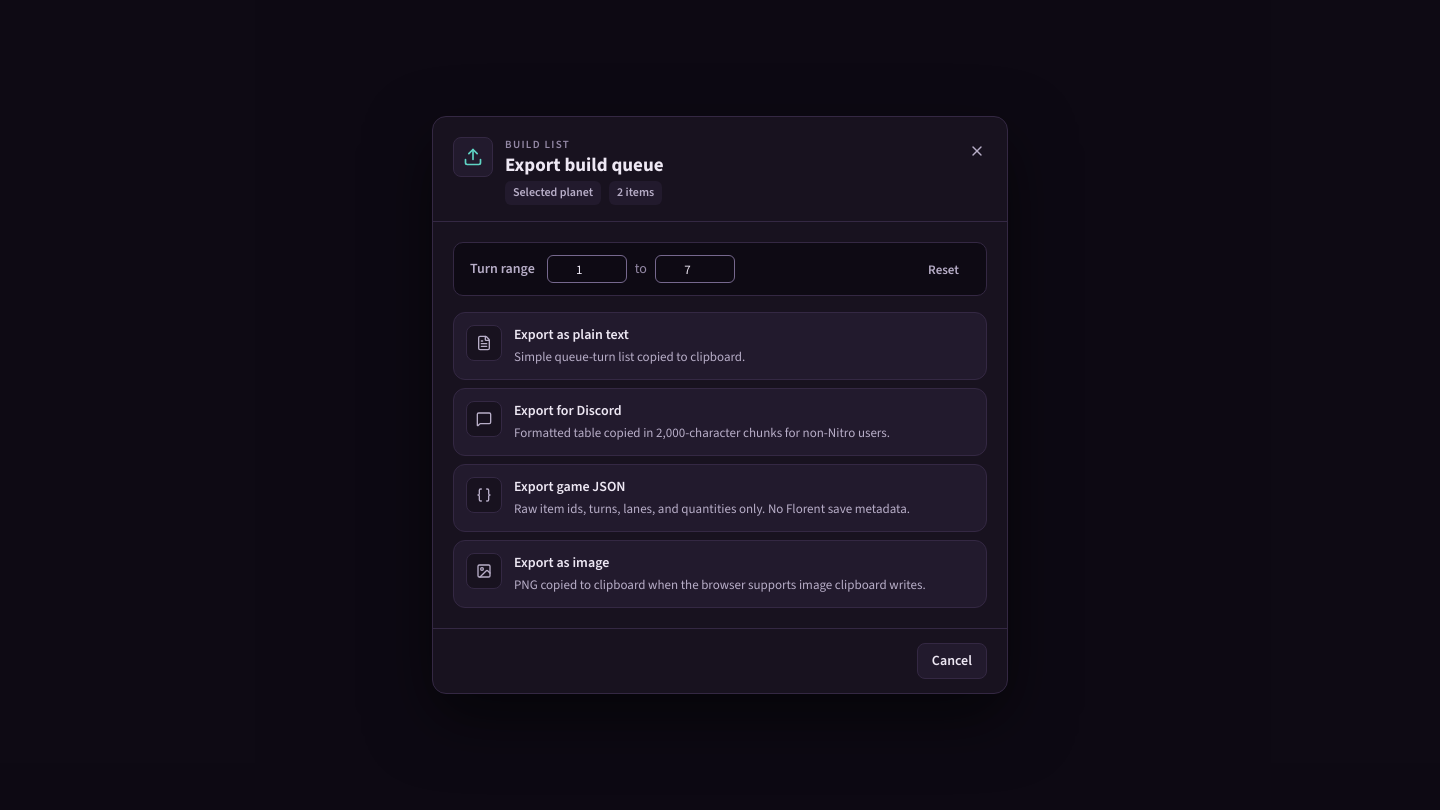
Test: ExportModal › game JSON export copies build data without Florent save metadata
Click the button "Export game JSON".
click(720, 498)  # box x1=453 y1=464 x2=987 y2=532
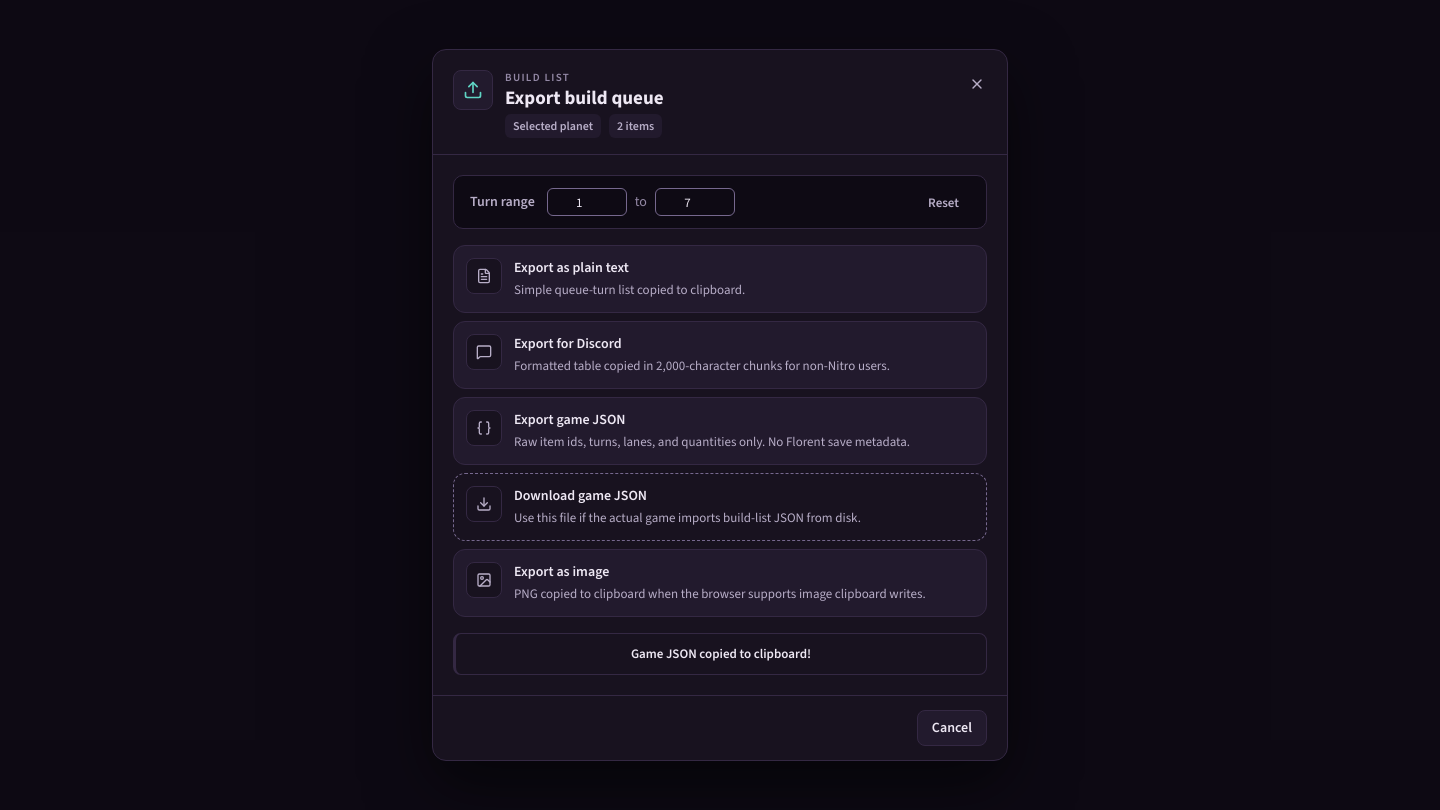
Expected: the button "Download game JSON" is shown, x1=453 y1=473 x2=987 y2=541
